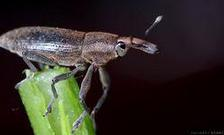weevils: (0, 0, 186, 135)
